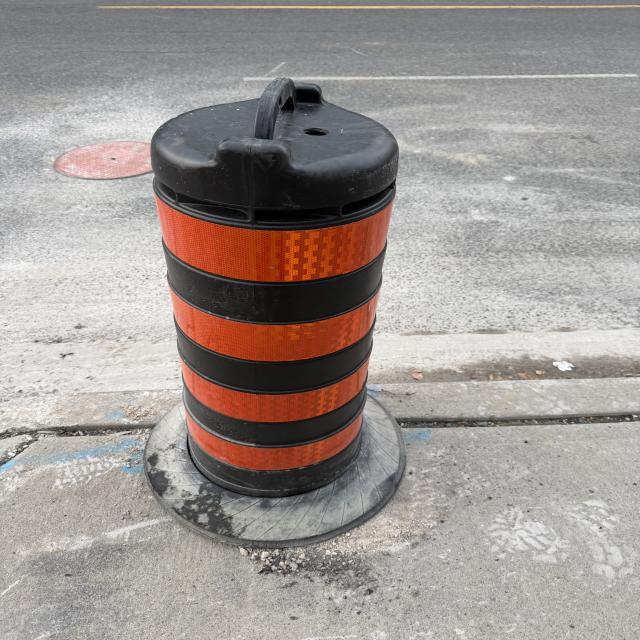Teraffic Barrel: (151, 78, 398, 497)
